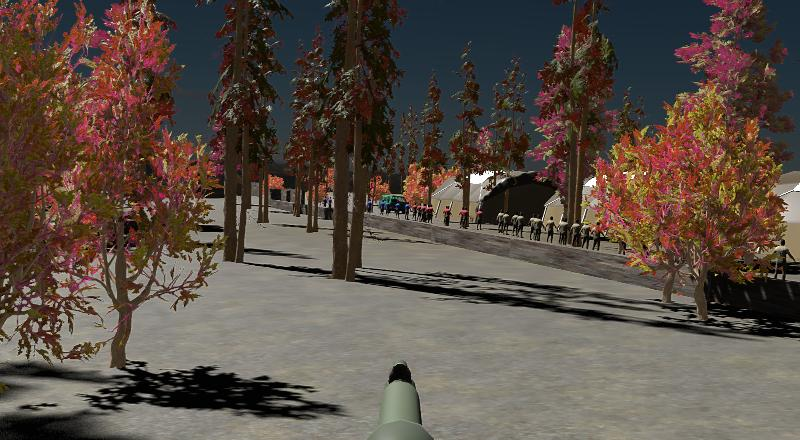Human: (458, 205, 471, 230), (442, 203, 453, 227)
Tank: (701, 237, 800, 321)
car: (379, 193, 411, 216)
